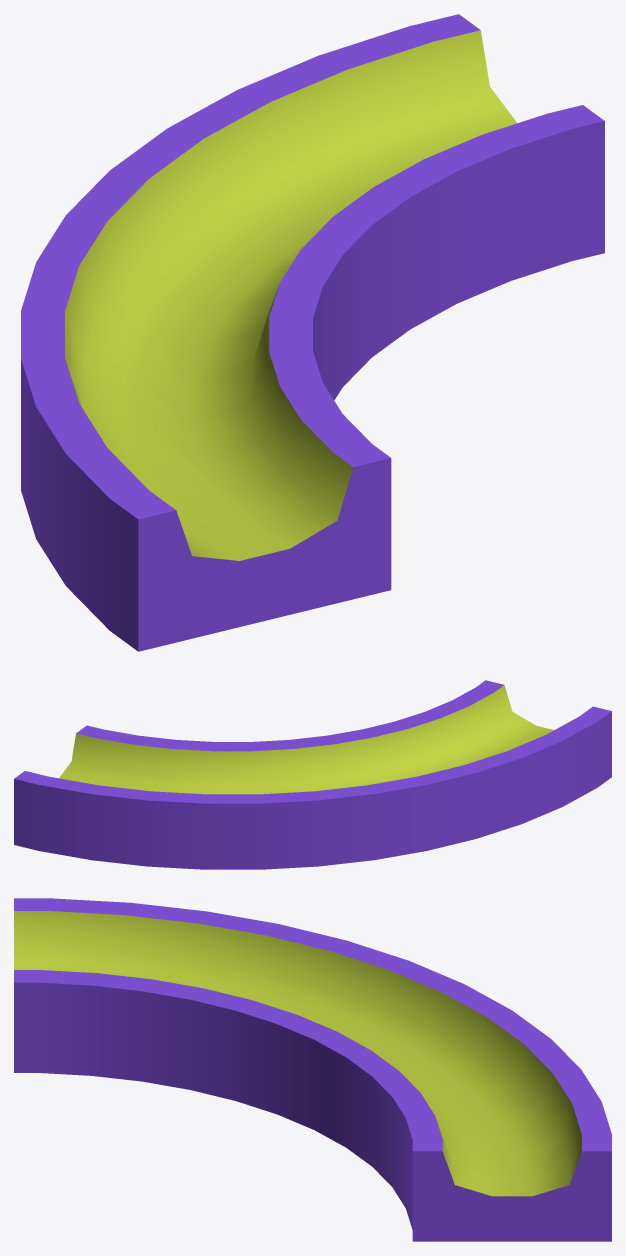
File: curve_large-col.dae
3 renders of one model, top to bottom at view 1: azimuth 30°, elevation 25°; view 2: azimuth 150°, elevation 25°; view 3: azimuth 270°, elevation 25°, orthographic. The views are drawn at different scales.
Parts seen in each view (by area): view 1: curve_large-col; view 2: curve_large-col; view 3: curve_large-col.
Boxes of the visible parts, x1=… form: curve_large-col: x1=21, y1=14, x2=604, y2=651; curve_large-col: x1=14, y1=680, x2=611, y2=869; curve_large-col: x1=14, y1=898, x2=611, y2=1241.
Size of the model in its own units: 3 by 3 by 0.5.
